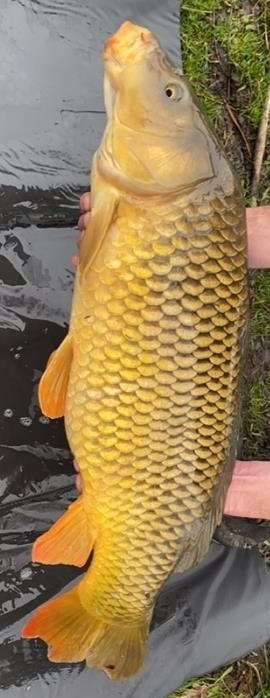Cyprinus carpio: (20, 20, 250, 678)
